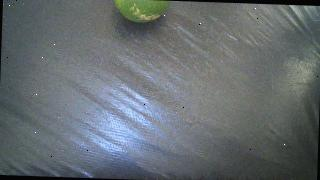DESECHO: (113, 0, 170, 23)
